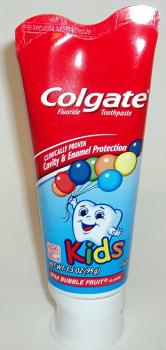toothpaste: (14, 0, 164, 342)
